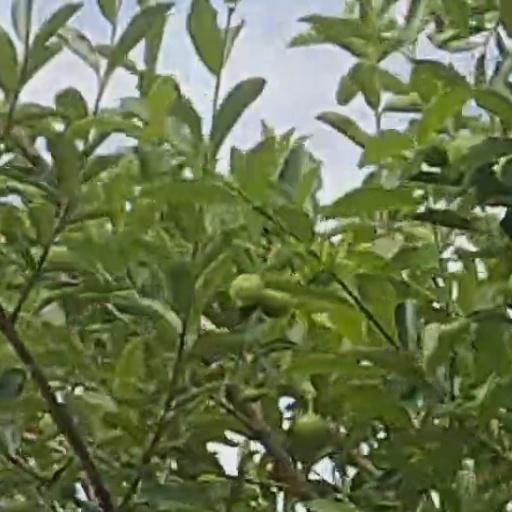acerola_verde: (293, 414, 324, 453)
